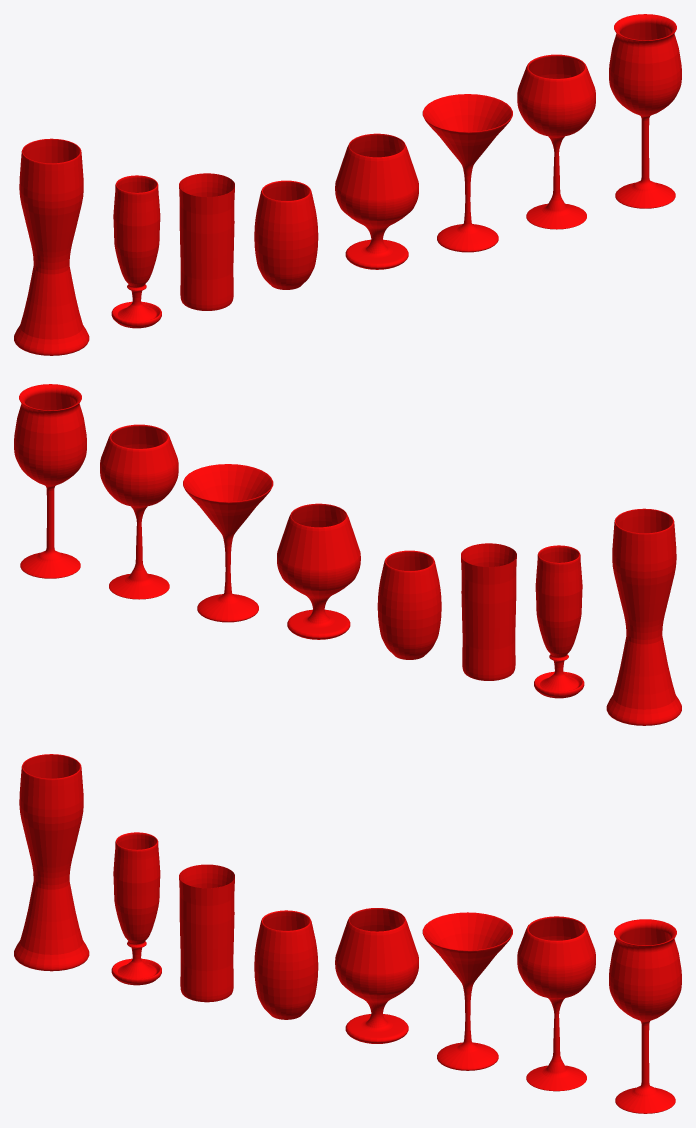
The model's file is GlassPack.obj.
3 views of the same model, one above another, from view 1: azimuth 30°, elevation 25°; view 2: azimuth 150°, elevation 25°; view 3: azimuth 330°, elevation 25° (orthographic).
Visible parts, largest first — view 1: Lathe_NURBS, Lathe_NURBS_6, Lathe_NURBS_5, Lathe_NURBS_2, Lathe_NURBS_7, Lathe_NURBS_4, Lathe_NURBS_3, Lathe_NURBS_1; view 2: Lathe_NURBS, Lathe_NURBS_6, Lathe_NURBS_5, Lathe_NURBS_2, Lathe_NURBS_7, Lathe_NURBS_4, Lathe_NURBS_3, Lathe_NURBS_1; view 3: Lathe_NURBS, Lathe_NURBS_6, Lathe_NURBS_5, Lathe_NURBS_2, Lathe_NURBS_7, Lathe_NURBS_4, Lathe_NURBS_3, Lathe_NURBS_1.
Boxes of the visible parts, x1=… form: Lathe_NURBS: x1=14, y1=138, x2=89, y2=355; Lathe_NURBS_6: x1=609, y1=14, x2=681, y2=208; Lathe_NURBS_5: x1=335, y1=133, x2=418, y2=269; Lathe_NURBS_2: x1=179, y1=173, x2=234, y2=310; Lathe_NURBS_7: x1=517, y1=54, x2=595, y2=229; Lathe_NURBS_4: x1=422, y1=94, x2=512, y2=252; Lathe_NURBS_3: x1=254, y1=180, x2=318, y2=289; Lathe_NURBS_1: x1=111, y1=175, x2=161, y2=328; Lathe_NURBS: x1=606, y1=508, x2=681, y2=725; Lathe_NURBS_6: x1=14, y1=384, x2=86, y2=578; Lathe_NURBS_5: x1=277, y1=503, x2=360, y2=639; Lathe_NURBS_2: x1=461, y1=543, x2=516, y2=680; Lathe_NURBS_7: x1=100, y1=424, x2=178, y2=599; Lathe_NURBS_4: x1=183, y1=464, x2=273, y2=622; Lathe_NURBS_3: x1=377, y1=550, x2=441, y2=659; Lathe_NURBS_1: x1=534, y1=545, x2=584, y2=698; Lathe_NURBS: x1=14, y1=754, x2=89, y2=971; Lathe_NURBS_6: x1=609, y1=919, x2=681, y2=1113; Lathe_NURBS_5: x1=335, y1=908, x2=418, y2=1043; Lathe_NURBS_2: x1=179, y1=864, x2=234, y2=1002; Lathe_NURBS_7: x1=517, y1=916, x2=595, y2=1091; Lathe_NURBS_4: x1=422, y1=912, x2=512, y2=1070; Lathe_NURBS_3: x1=254, y1=910, x2=318, y2=1019; Lathe_NURBS_1: x1=111, y1=832, x2=161, y2=985.
Size of the model in its own units: 961 by 267 by 114.
